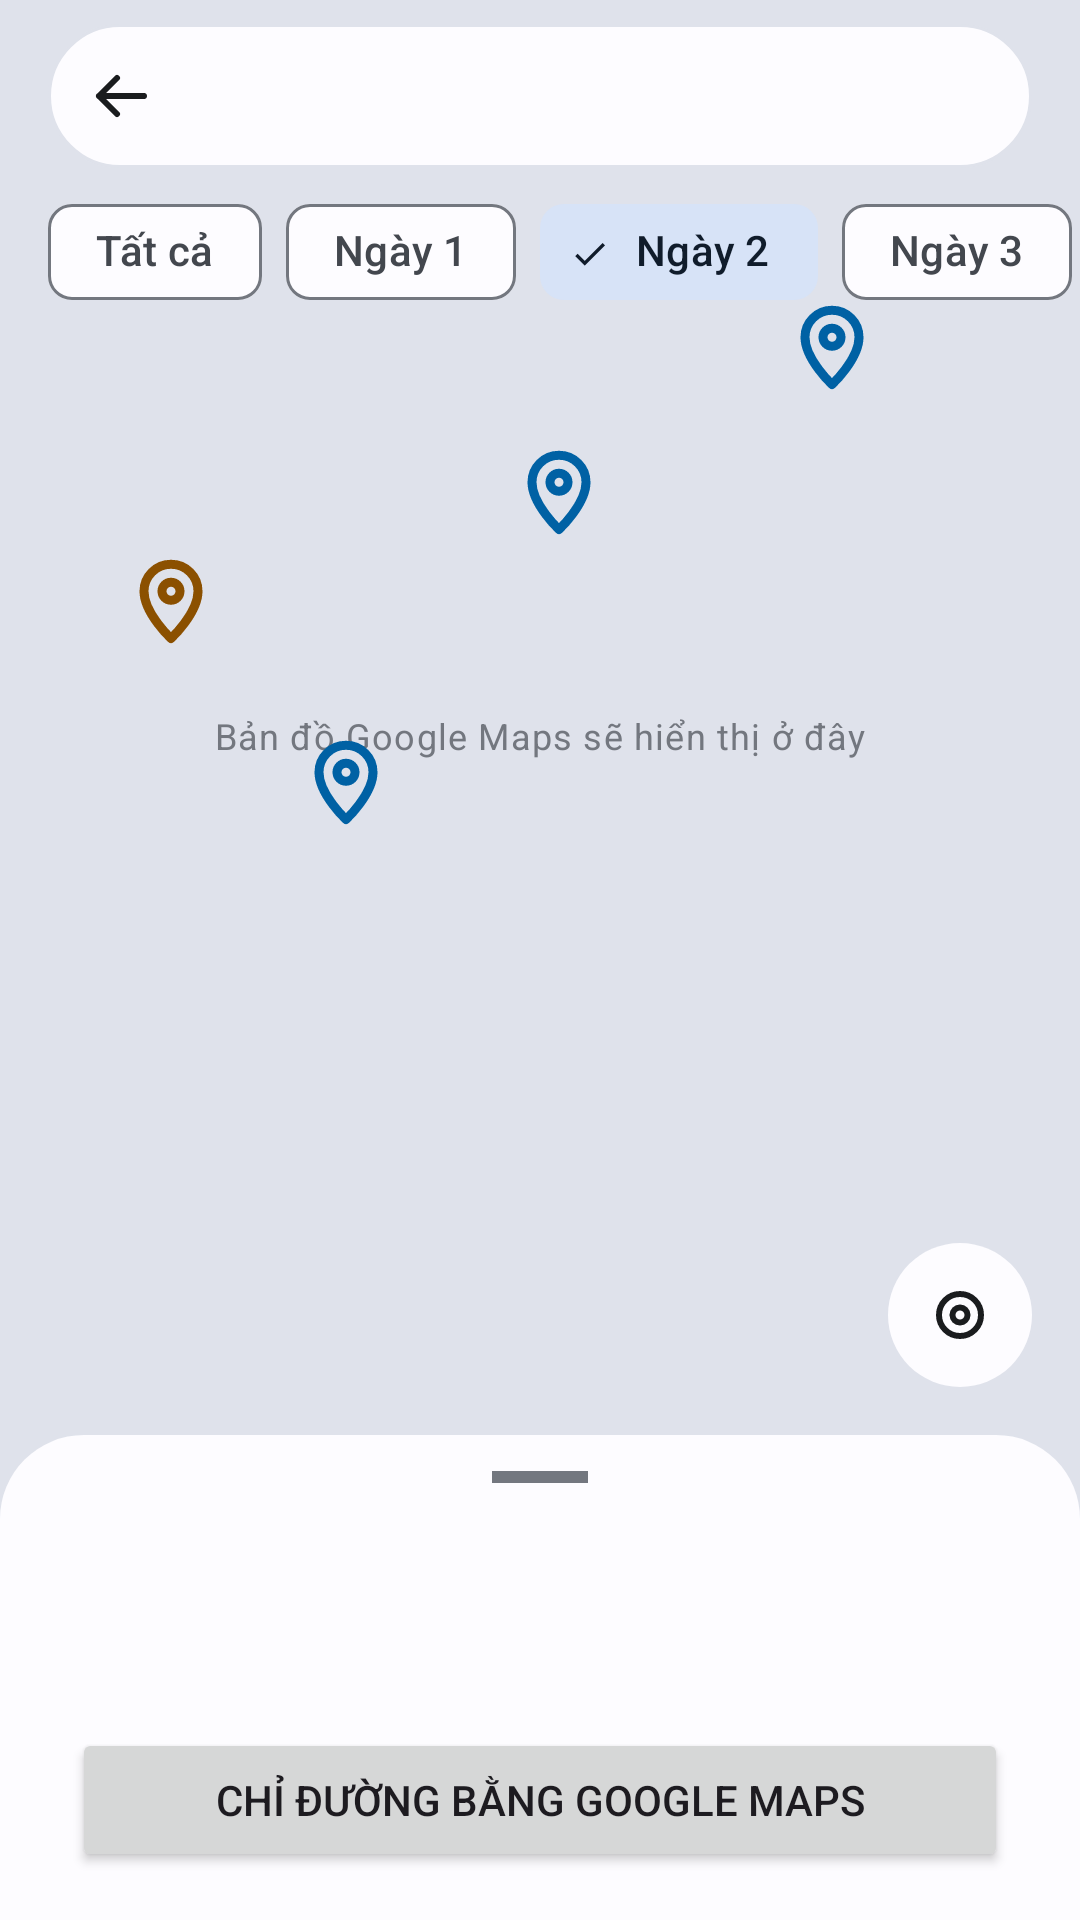

Where icons sit on this 1080px×1920px app screen, as (x1, y1, x2, y2):
Quay lại: (96, 75, 147, 117)
Vị trí của tôi: (888, 1243, 1032, 1387)
Điểm dừng: (800, 305, 864, 390), (527, 450, 591, 535), (292, 725, 391, 825)
Điểm tập trung: (139, 559, 203, 644)
